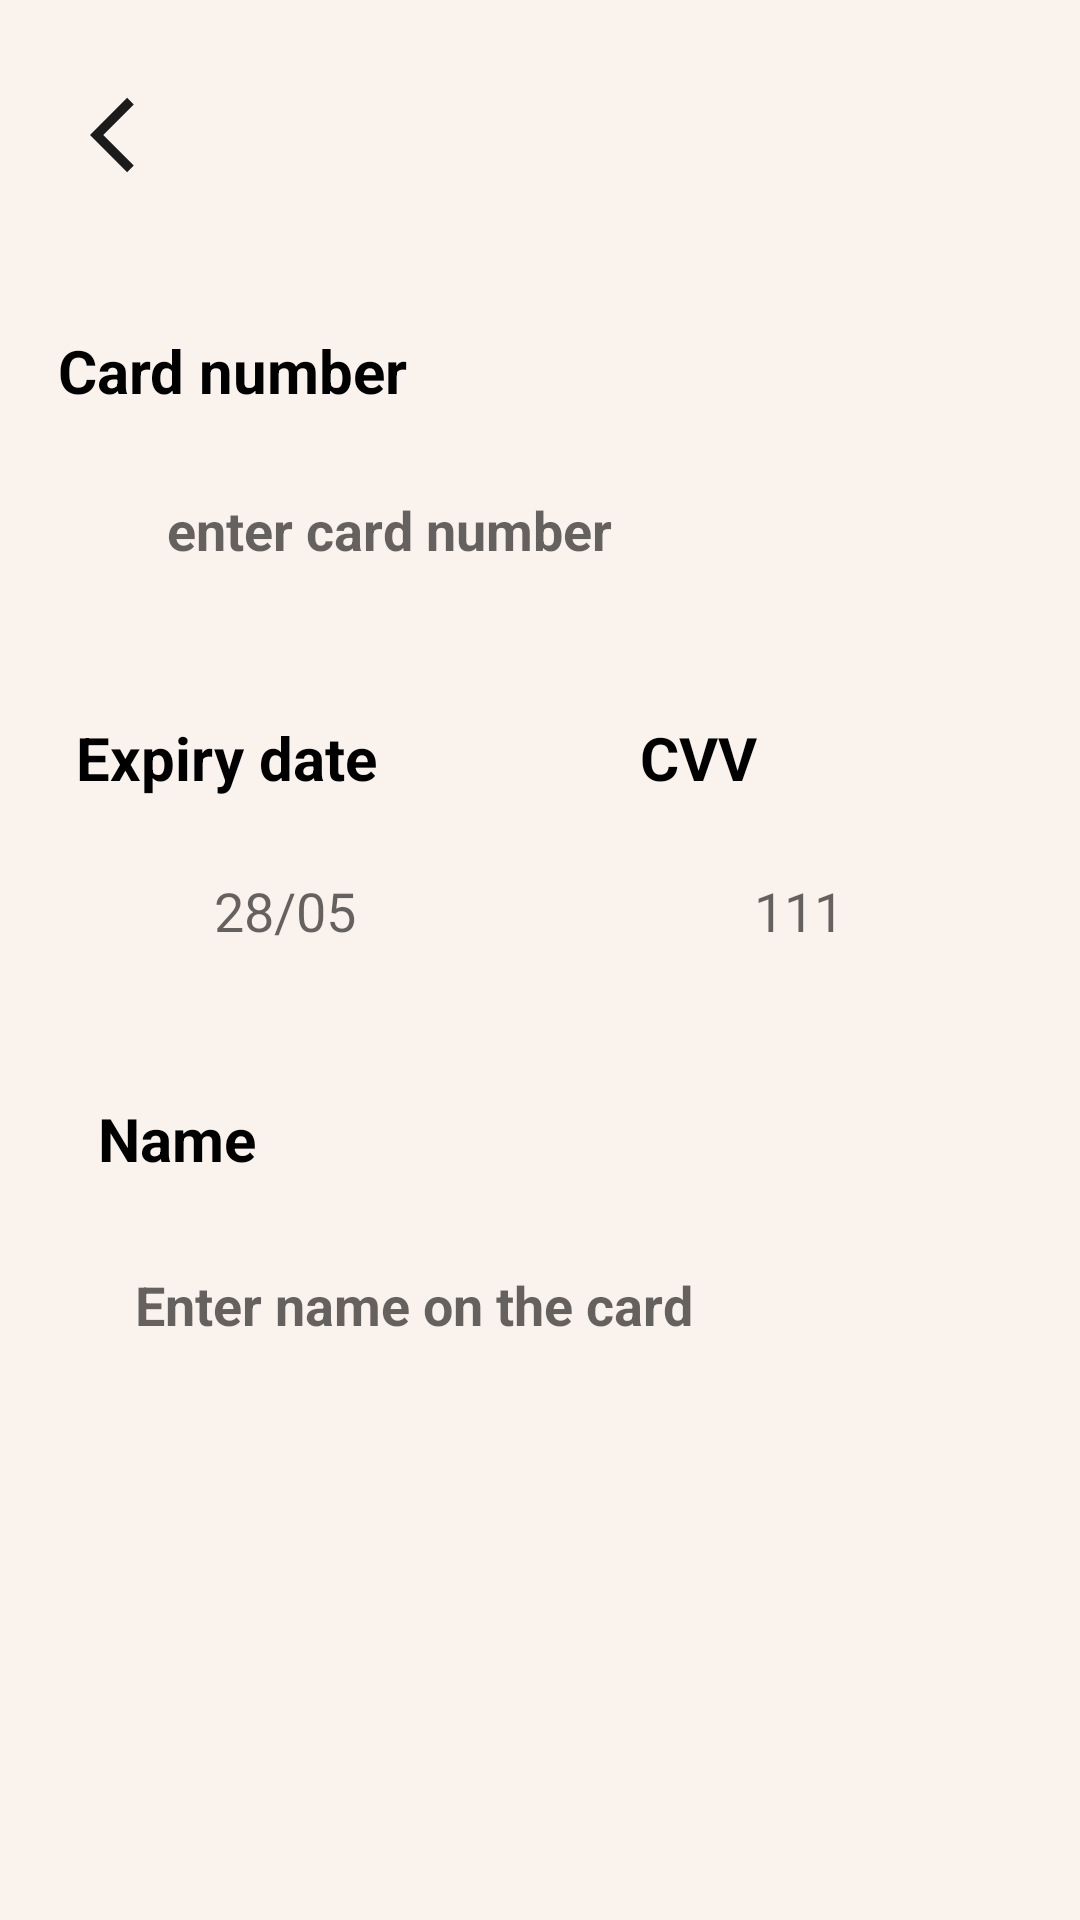

Icon click points for this 1080×1920 phone screenshot, format point (x, y):
return back: point (112, 135)
